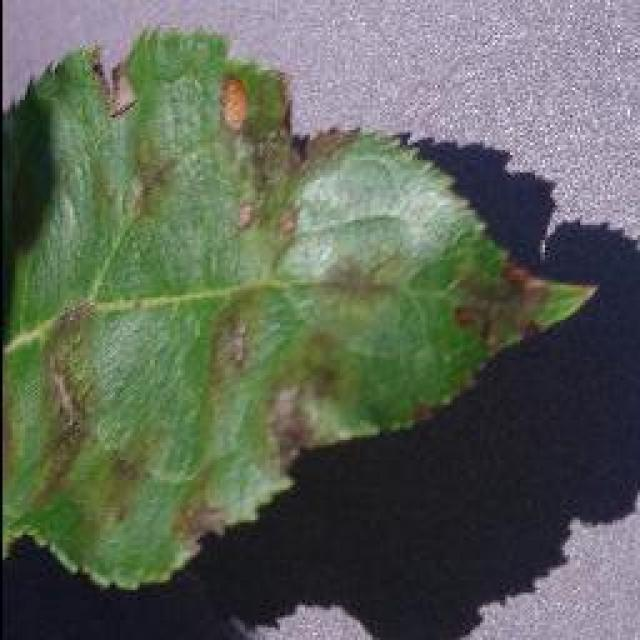apple scab disease: (0, 22, 598, 590)
